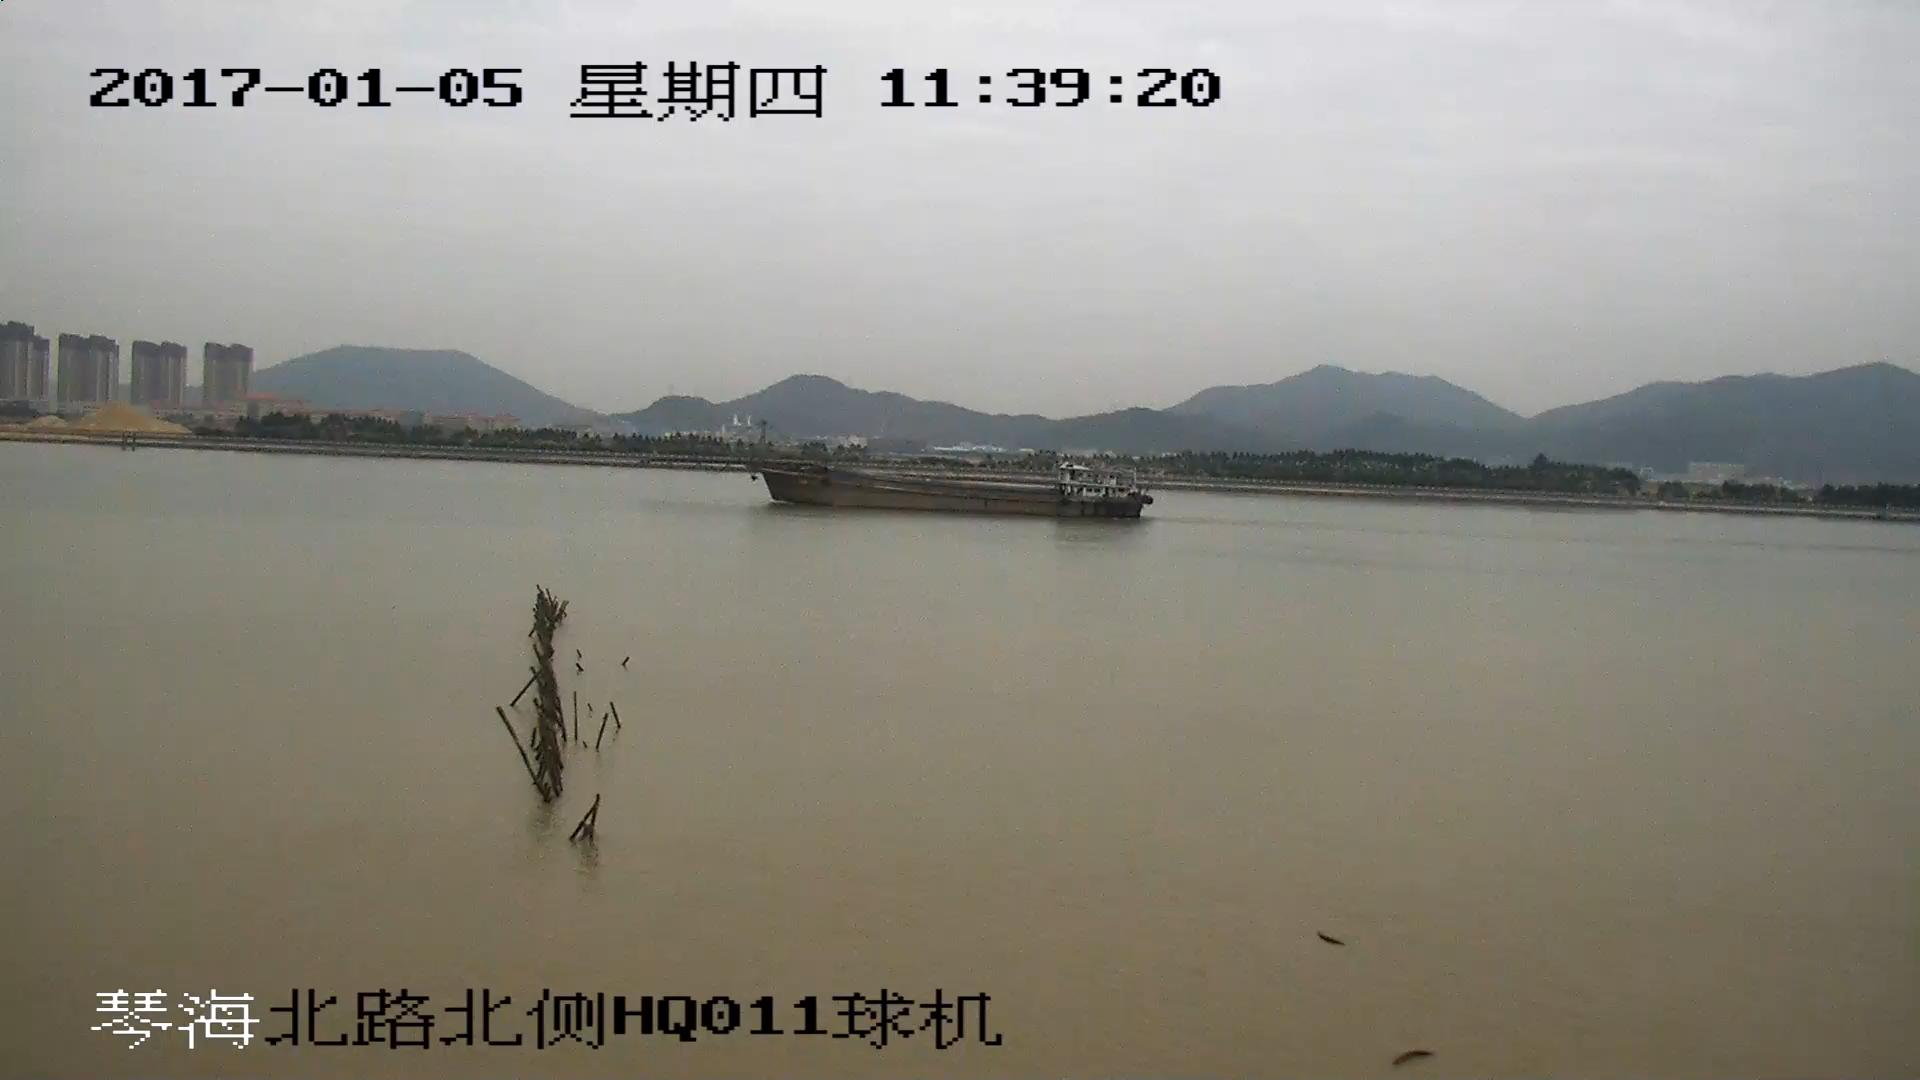bulk cargo carrier: (678, 421, 1150, 519)
